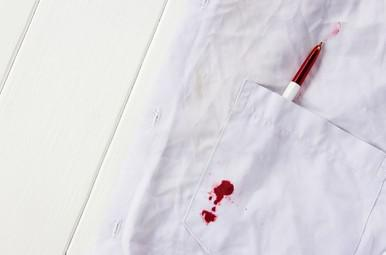gun: (199, 176, 237, 219)
